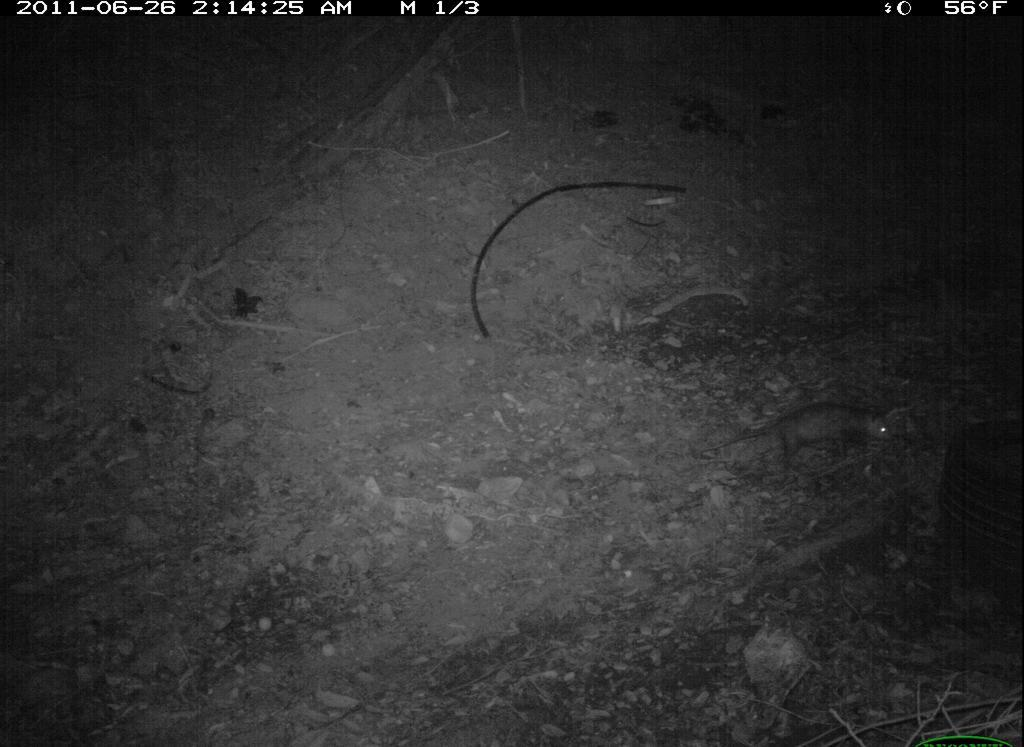opossum: (720, 393, 905, 474)
